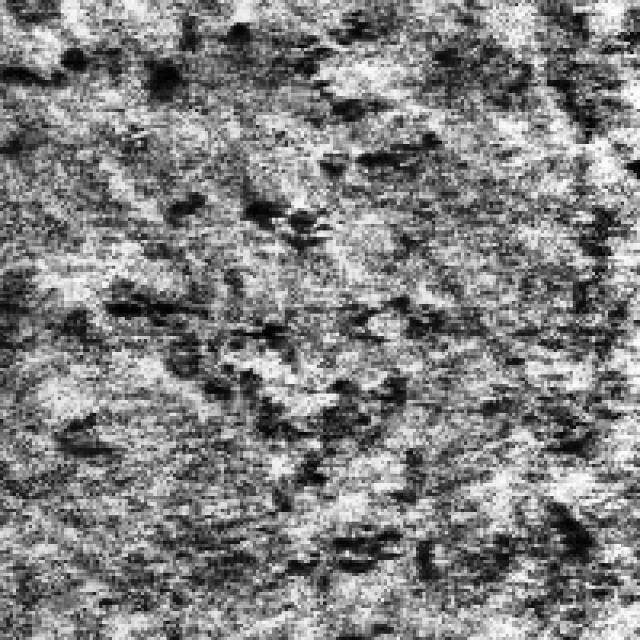Crazing: (106, 185, 432, 572), (3, 7, 374, 122)
